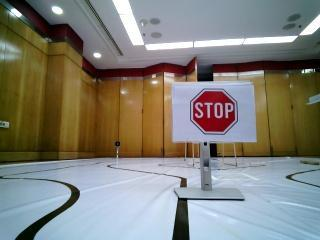stop: (179, 87, 244, 140)
